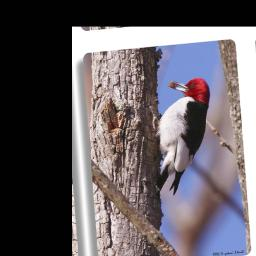Woodpecker: (146, 76, 218, 196)
